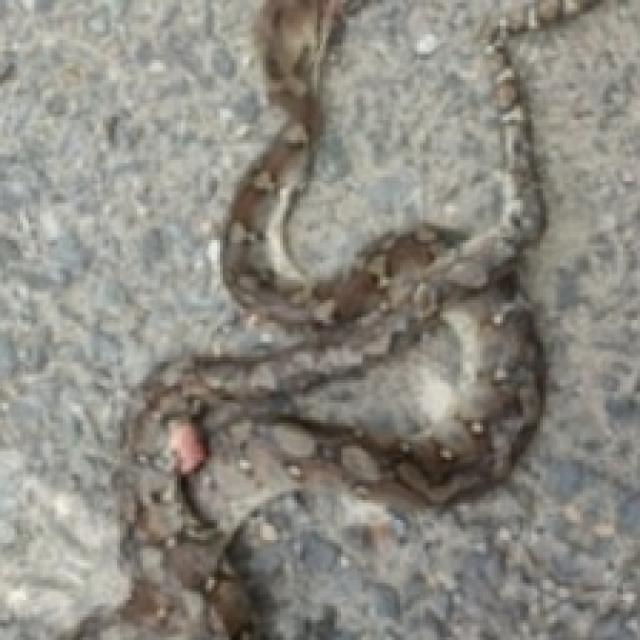reticulated python: (104, 3, 542, 640), (499, 0, 599, 36)
